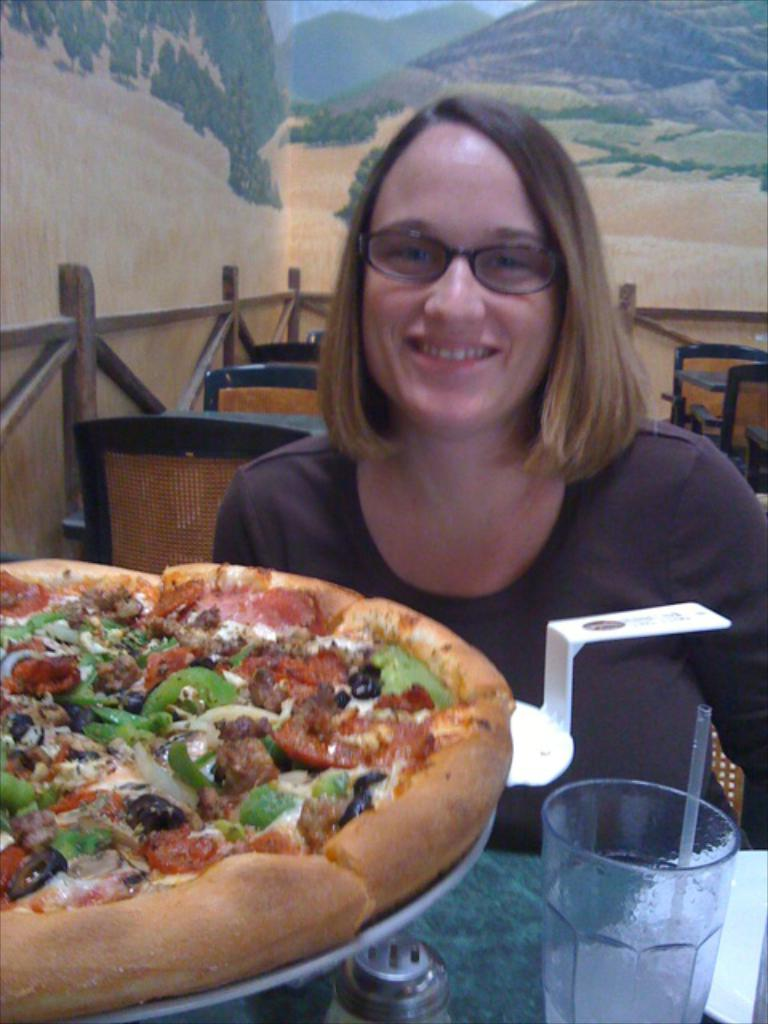Pizza: (1, 548, 518, 1008)
